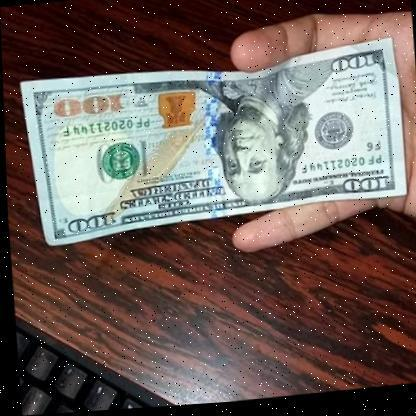dollar_front: (27, 40, 408, 240)
